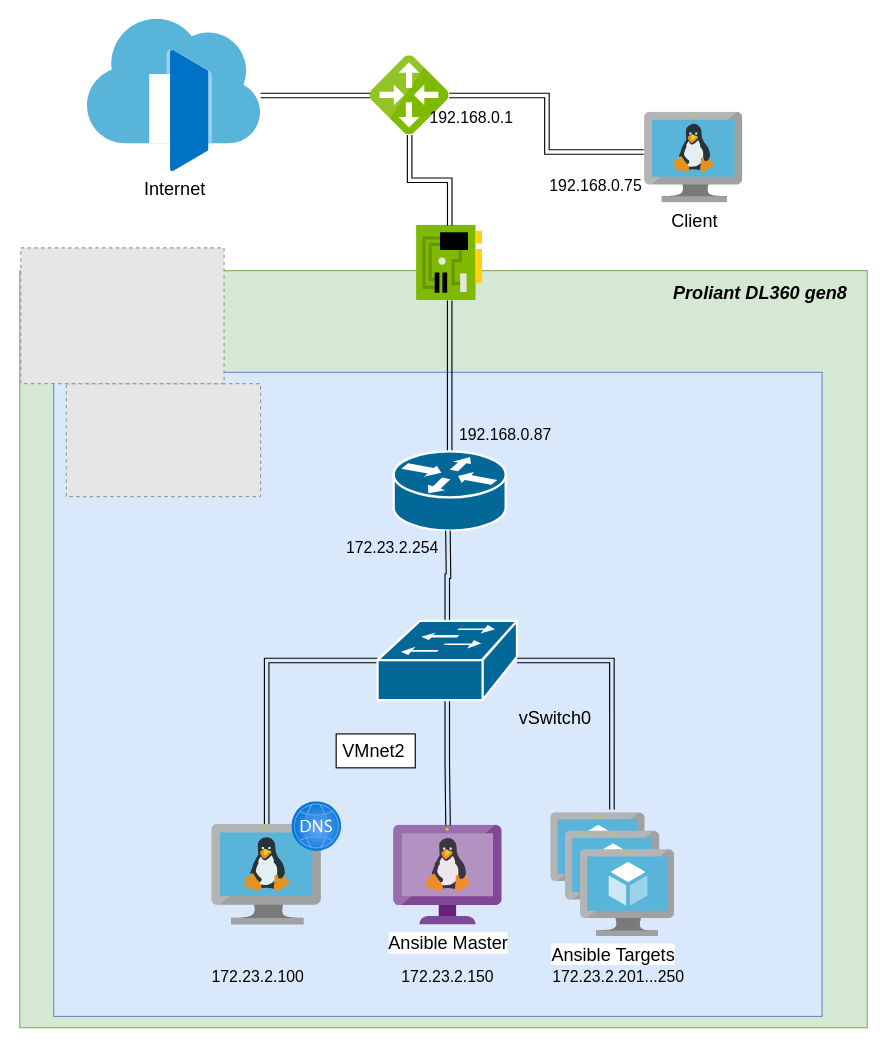
The diagram is 887 pixels wide and 1048 high, and some of its shapes have lost their labels. Grey dashed boxes stand in for pictures. The box of each missing label's shape, as (x1, y1, x2, y2) in pixels:
DNS Server: (211, 824, 321, 925)
Internet router: (370, 55, 449, 134)
VyOS: (392, 450, 506, 531)
